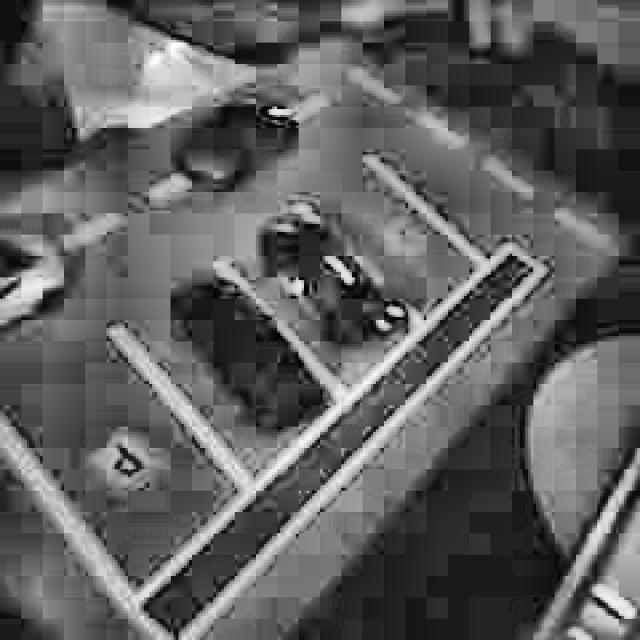car: (160, 264, 324, 439), (254, 194, 406, 359), (165, 89, 308, 198), (0, 221, 85, 340)
